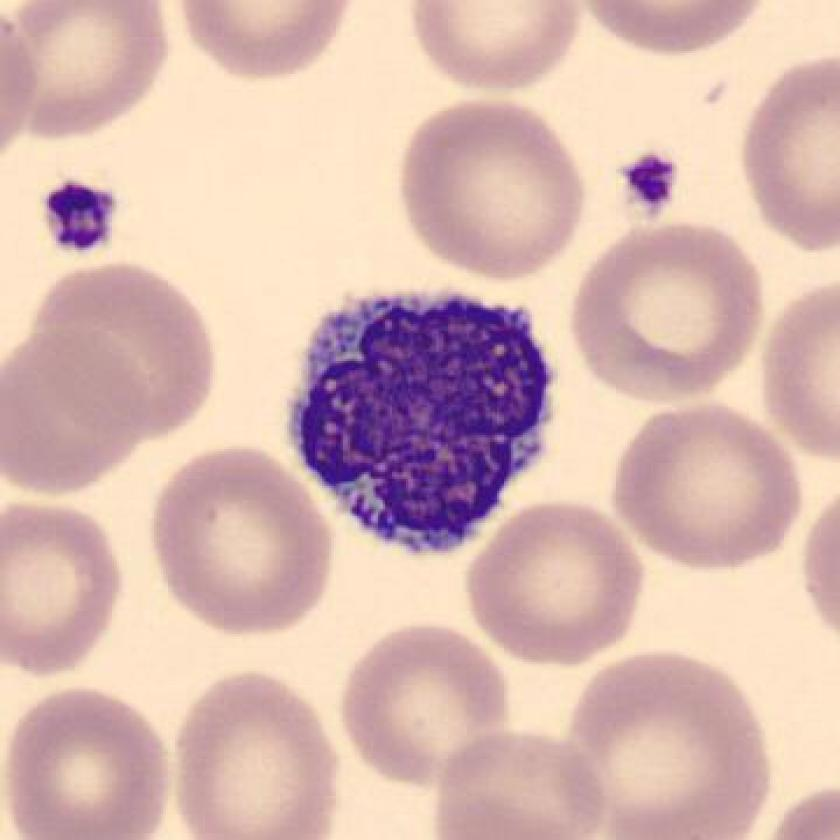lymphocyte: (281, 277, 573, 573)
